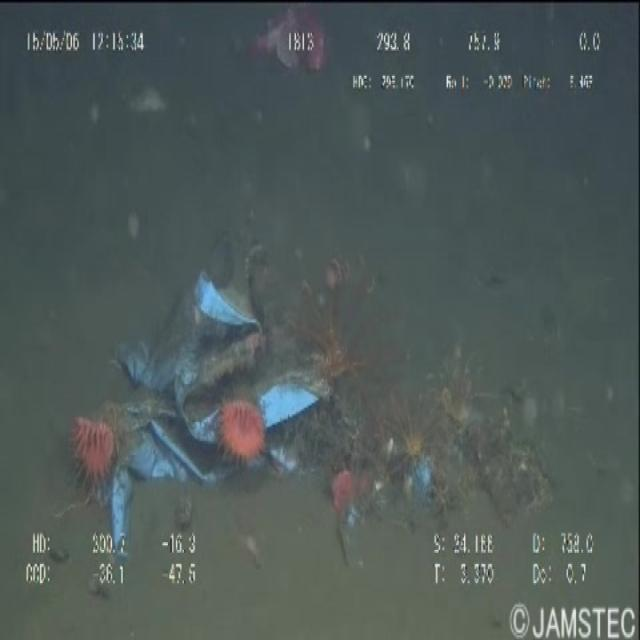Accessories: (93, 225, 450, 569)
